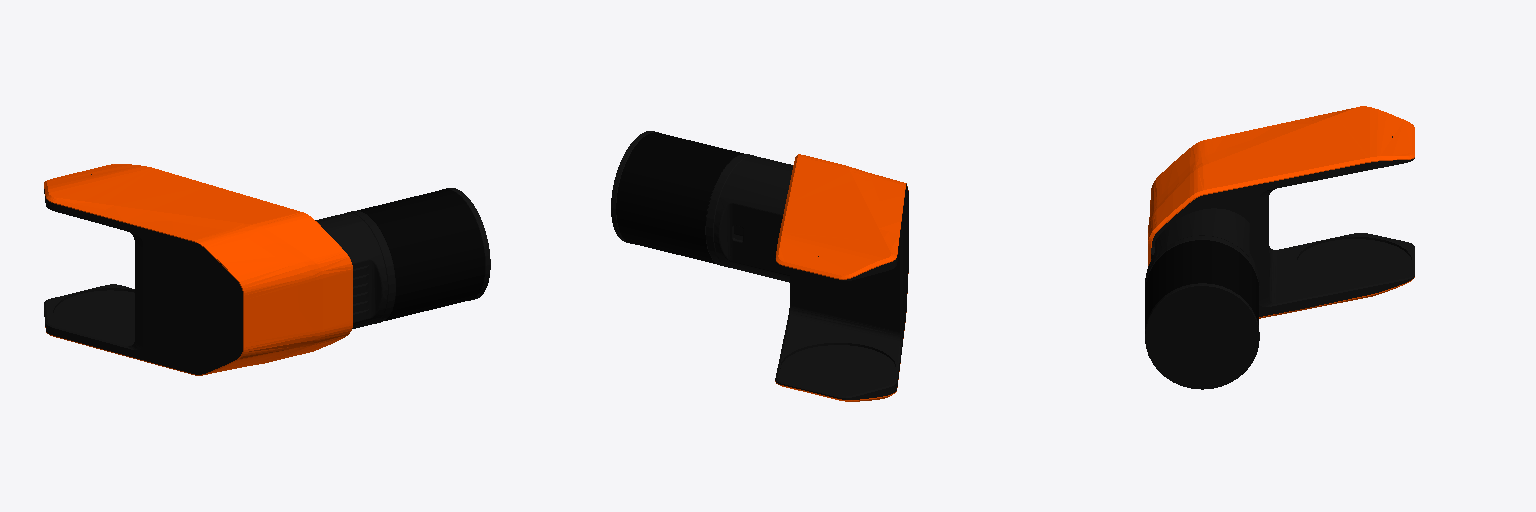
3 views of the same model, side by side, from view 1: azimuth 30°, elevation 25°; view 2: azimuth 150°, elevation 25°; view 3: azimuth 270°, elevation 25° (orthographic).
Parts seen in each view (by area): view 1: arm_link3.001; view 2: arm_link3.001; view 3: arm_link3.001.
Part boxes in pixels (bbox=[...]): arm_link3.001: bbox=[44, 164, 490, 375]; arm_link3.001: bbox=[611, 131, 908, 401]; arm_link3.001: bbox=[1145, 106, 1414, 389].
Bounding box in the file's own units: 0.1916 × 0.0764 × 0.134.